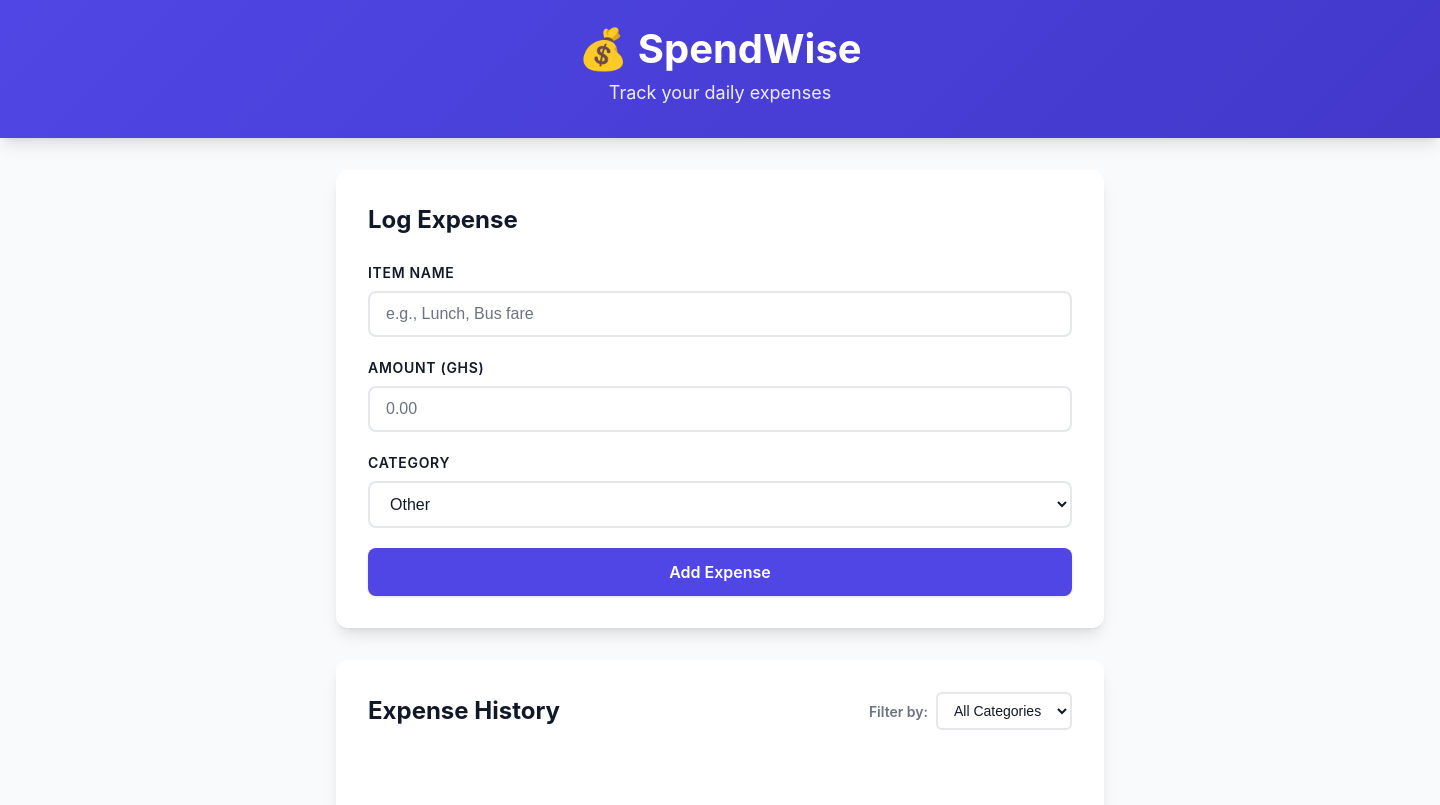
Scenario: User Story 2: View Expense List - Frontend UI › Integration with Add Expense › should refresh expense list after adding new expense
// Add expense
Type "New Item" into the field labelled "Item Name".
click(720, 314); type("New Item")  # box left=368, top=291, right=1072, bottom=337
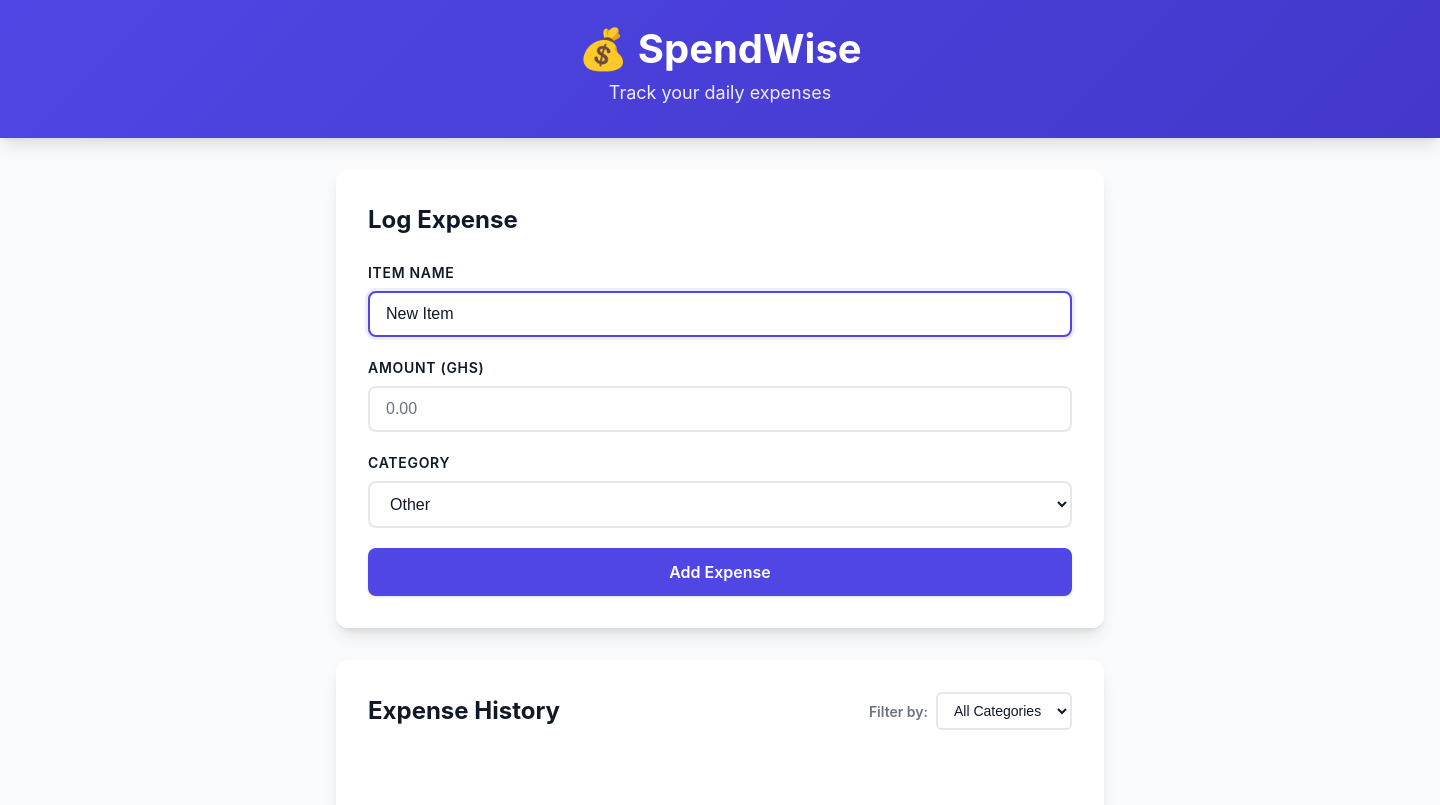
Type "20.00" into the number field labelled "Amount (GHS)".
click(720, 409); type("20.00")  # box left=368, top=386, right=1072, bottom=432
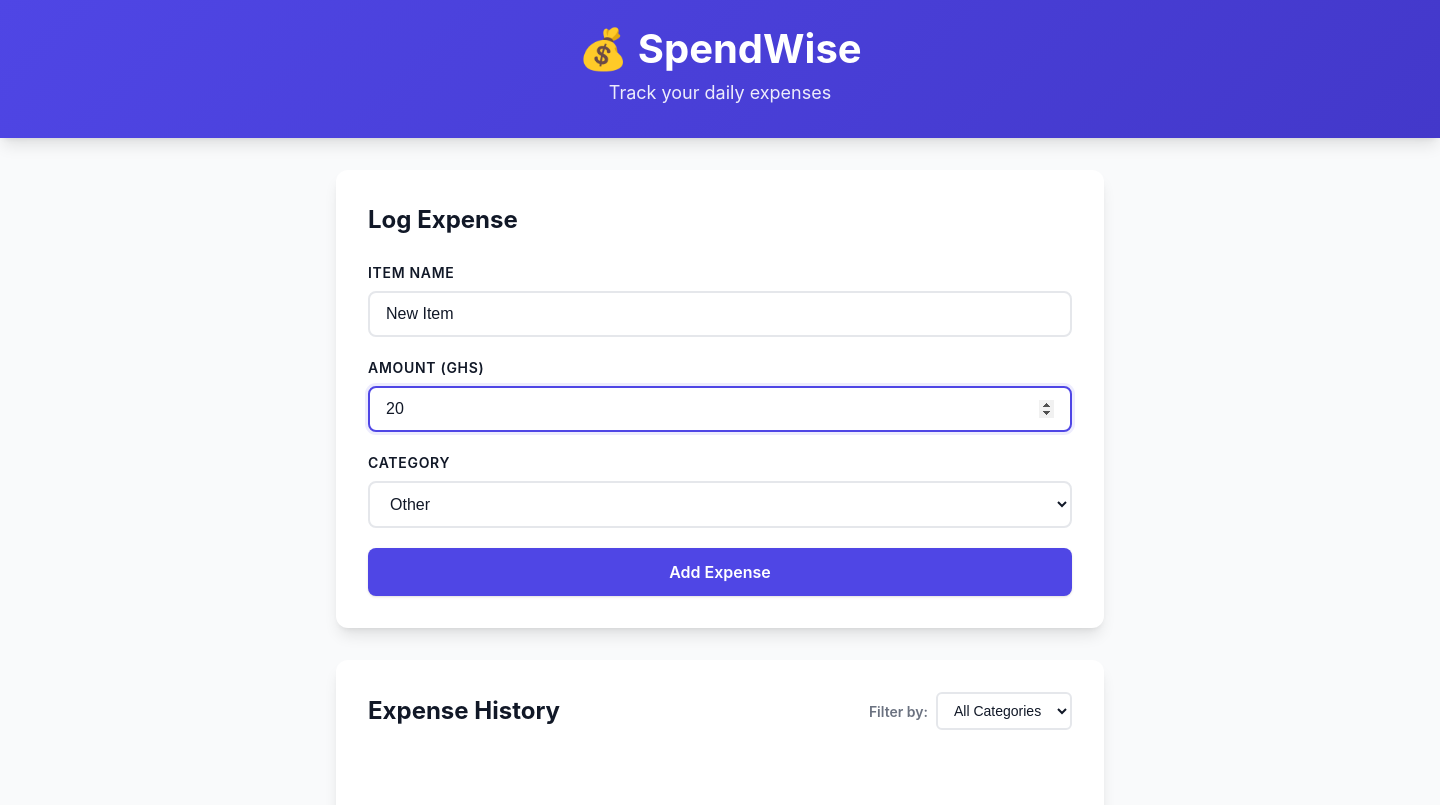
Click the button "Add Expense".
click(720, 572)  # box left=368, top=548, right=1072, bottom=596
(page scrolled)
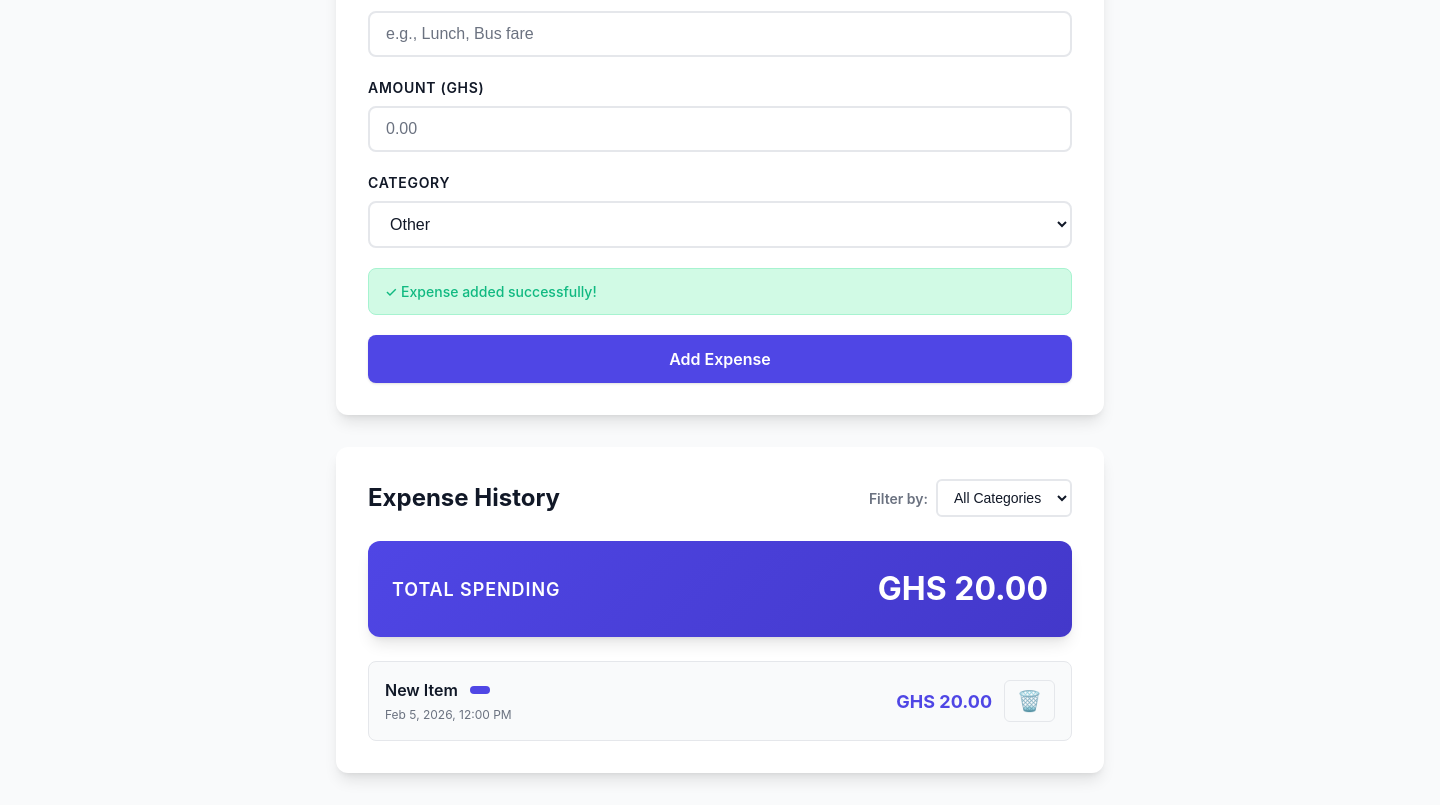
expect the text "No expenses yet" is not shown: met
expect the text "New Item" is shown: met, box left=385, top=678, right=458, bottom=702
